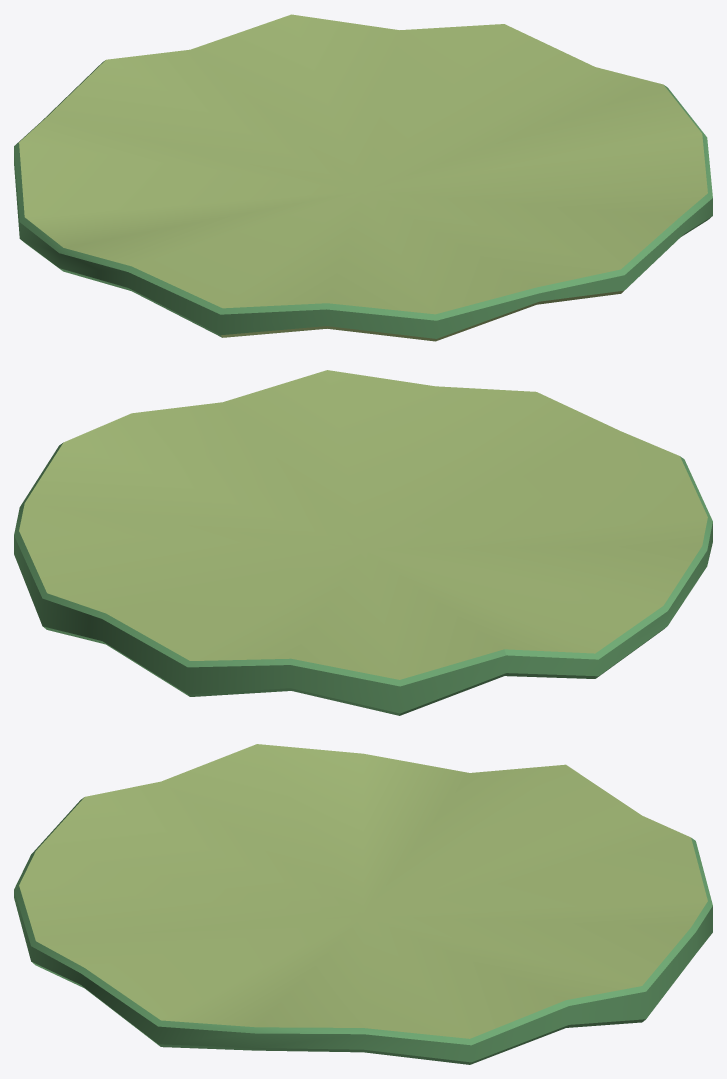
Rendered from OBJ_pepinillo.fbx.
3 renders of one model, top to bottom at view 1: azimuth 30°, elevation 25°; view 2: azimuth 150°, elevation 25°; view 3: azimuth 270°, elevation 25°, orthographic.
Parts seen in each view (by area): view 1: pCylinder1; view 2: pCylinder1; view 3: pCylinder1.
Boxes of the visible parts, x1=… form: pCylinder1: x1=14, y1=14, x2=712, y2=341; pCylinder1: x1=14, y1=370, x2=712, y2=715; pCylinder1: x1=14, y1=744, x2=712, y2=1064.
Bounding box in the file's own units: 2 × 0.1717 × 2.
